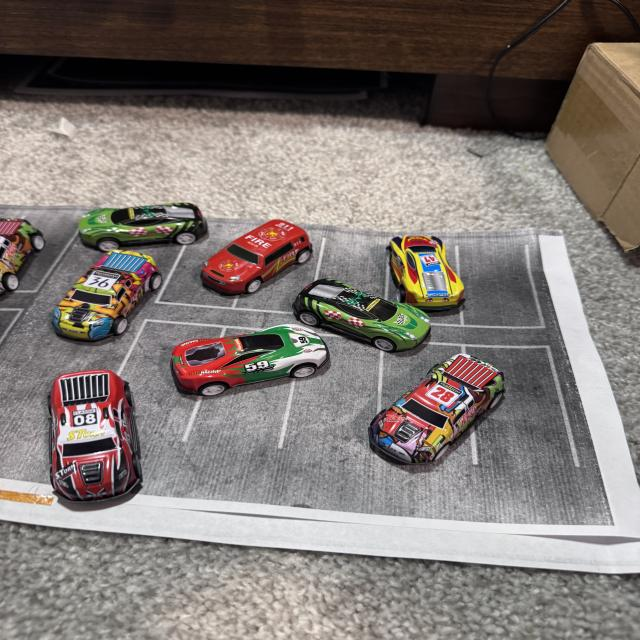Car: (27, 345, 172, 521), (160, 320, 377, 417), (361, 352, 532, 473), (263, 280, 442, 350), (195, 206, 312, 308), (78, 169, 225, 250), (57, 234, 149, 358), (370, 218, 476, 306)
